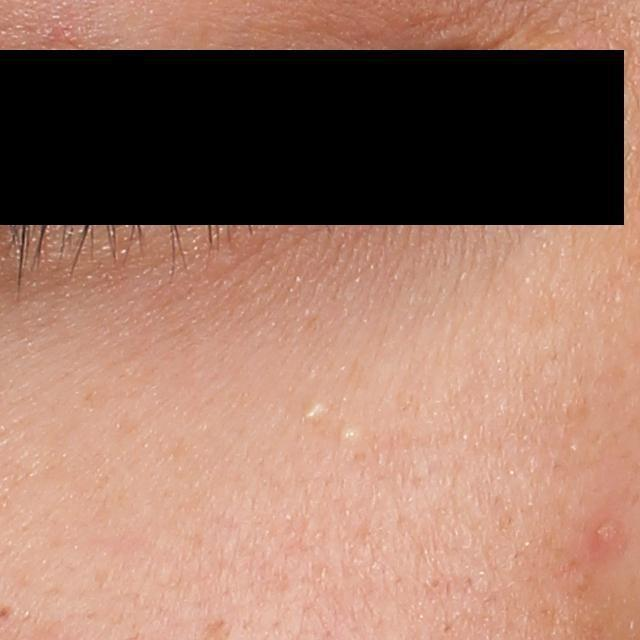comedo: (333, 419, 360, 447), (297, 398, 323, 427)
papule: (578, 508, 632, 557)
